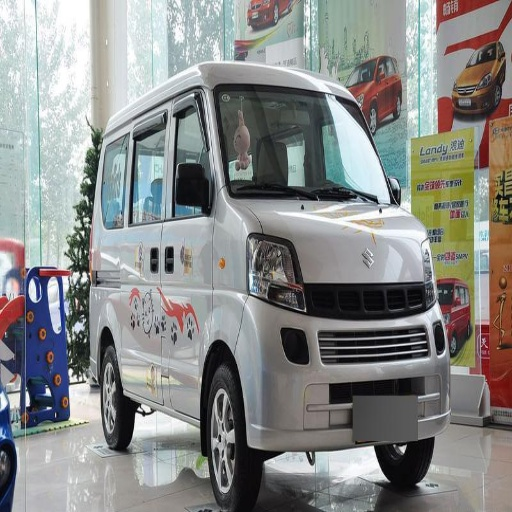front_bumper: (238, 283, 451, 448)
front_glass: (216, 86, 387, 200)
front_right_door: (163, 89, 218, 276)
front_right_light: (247, 234, 308, 312)
hood: (255, 200, 433, 283)
trunk: (52, 273, 144, 363)
